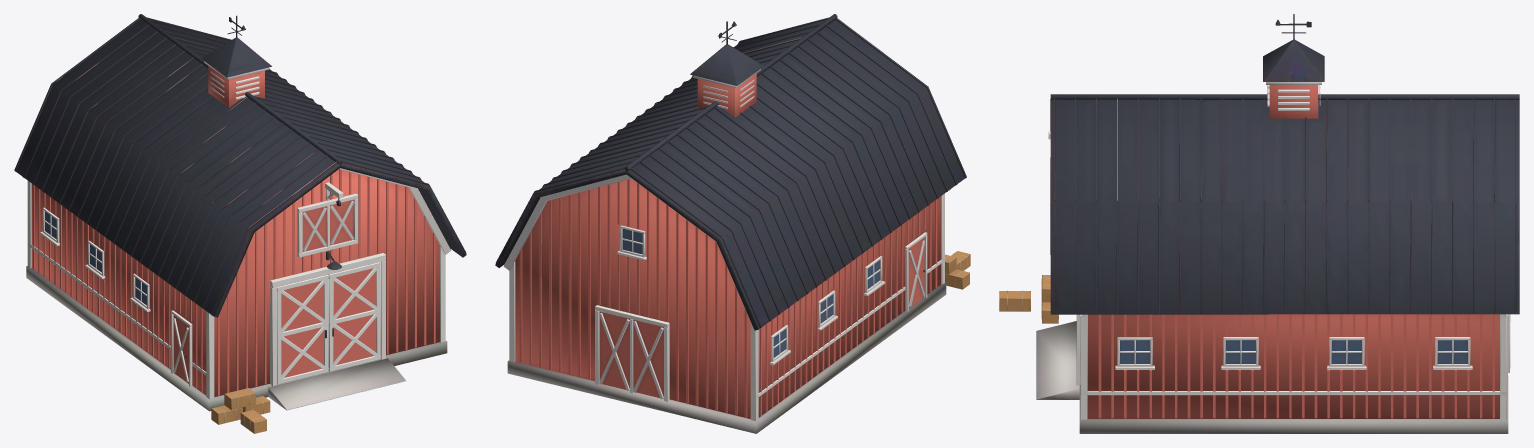
The model's file is barn-b1562625.glb.
3 views of the same model, side by side, from view 1: azimuth 30°, elevation 25°; view 2: azimuth 150°, elevation 25°; view 3: azimuth 270°, elevation 25° (orthographic). The views are drawn at different scales.
Visible parts, largest first — view 1: barn_body, barn_barn_door_left, barn_trim; view 2: barn_body, barn_barn_door_left, barn_trim; view 3: barn_body, barn_trim, barn_barn_door_left.
Part boxes in pixels (x1,y1,x2,y2): barn_body: (14,14,466,411); barn_barn_door_left: (32,169,435,395); barn_trim: (22,15,451,433); barn_body: (495,14,966,433); barn_barn_door_left: (519,179,937,417); barn_trim: (503,21,970,421); barn_body: (1036,40,1519,433); barn_trim: (999,14,1510,419); barn_barn_door_left: (1098,314,1494,418).
Size of the model in its own units: 9.79 by 11 by 14.75.
Materials: 5 (2 with a texture image).
